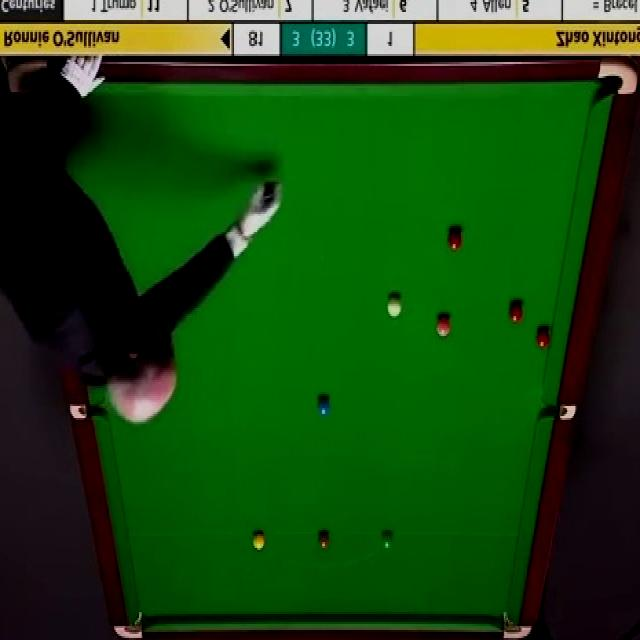pocket: (598, 57, 638, 96), (7, 60, 44, 90), (112, 610, 144, 640), (502, 608, 533, 638), (70, 400, 104, 419), (542, 399, 576, 418)
